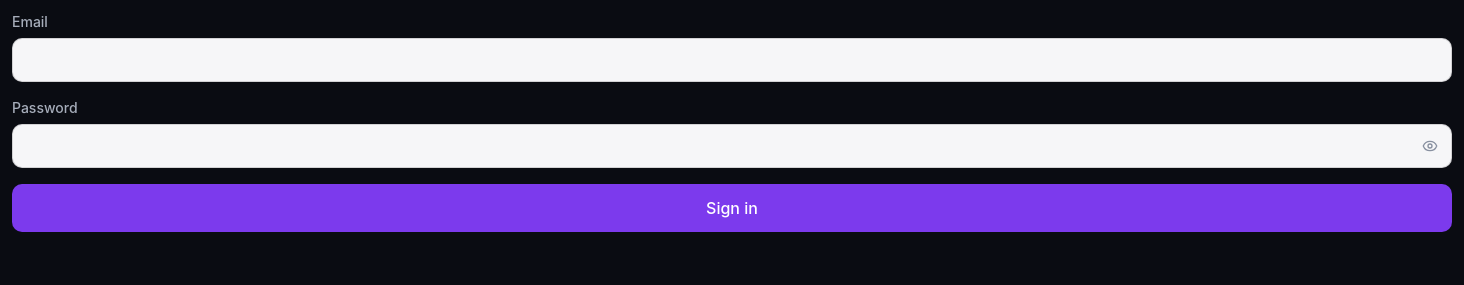
Test: SignInForm › shows a safe message, not a raw Firebase code, for a disabled account
The image size is (1464, 285).
Type "alice@example.com" into the field labelled "Email" at (732, 60), box [12,38,1452,82]
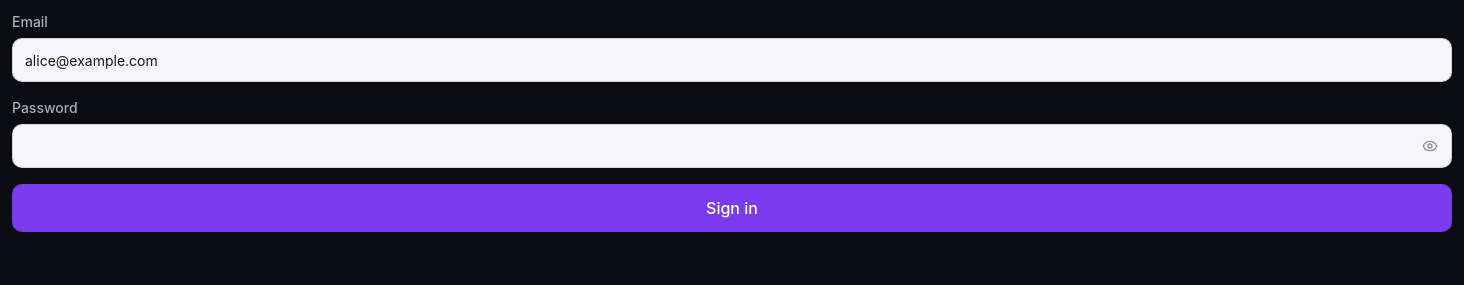
Type "secret123" into the password field labelled "Password" at (732, 146), box [12,124,1452,168]
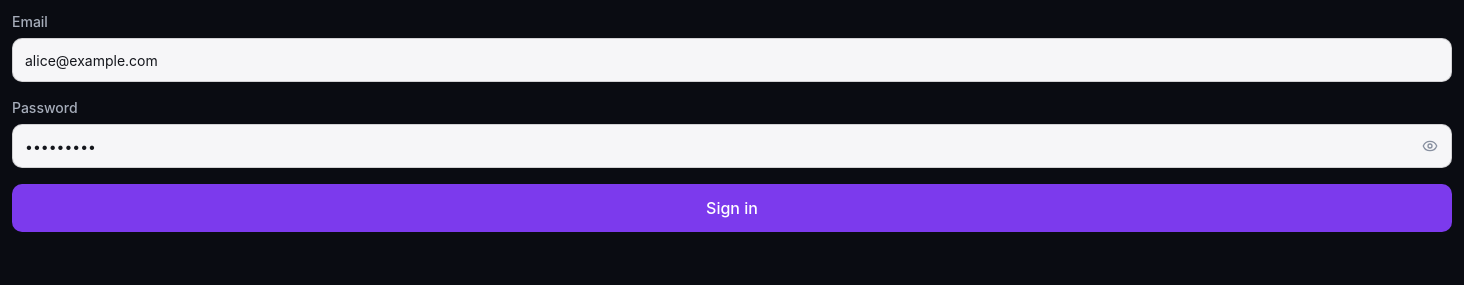
Click the button "Sign in" at (732, 208), box [12,184,1452,232]
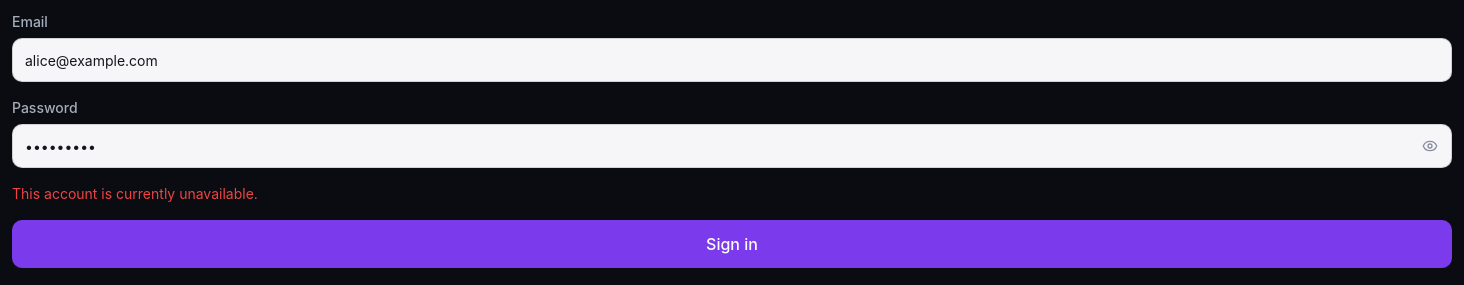
expect the message reads "This account is currently unavailable.": met, box [12,185,258,202]
